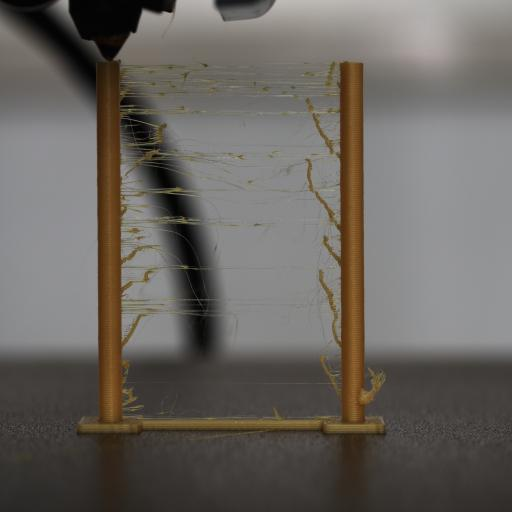stringing: (119, 56, 343, 416)
